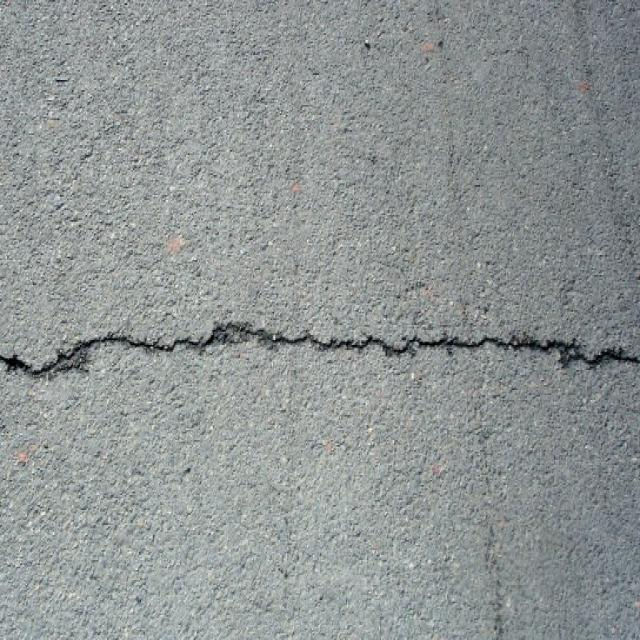Transverse: (3, 295, 640, 403)
